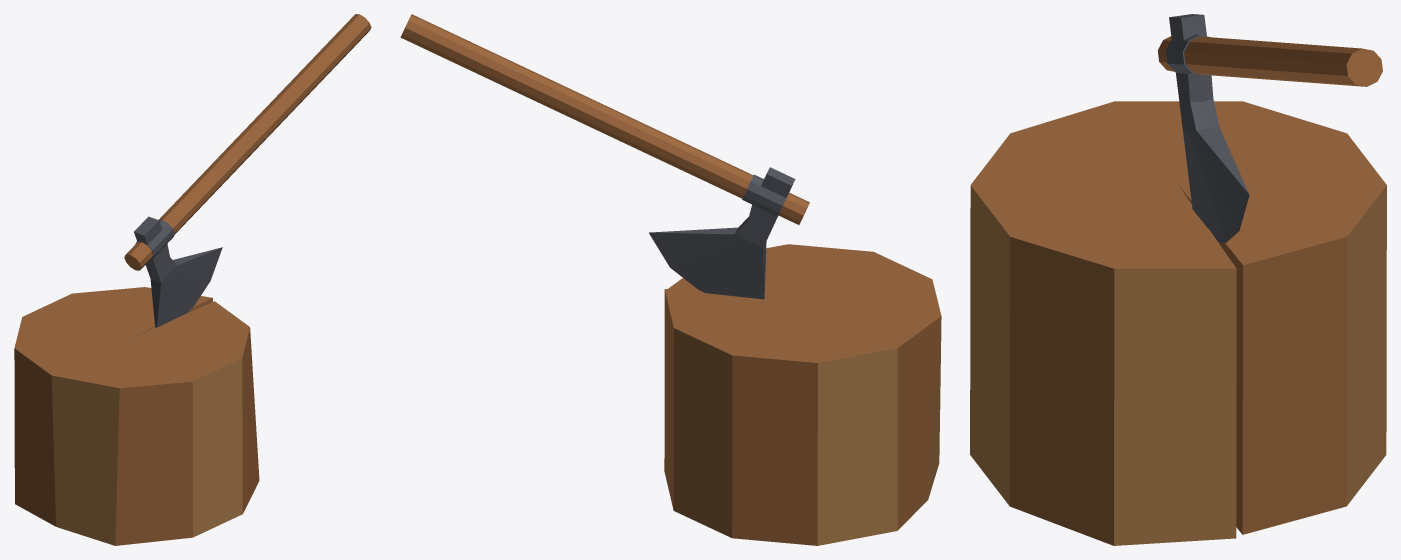
The model's file is Wood_02.fbx.
The picture shows the model from 3 angles, left to right: view 1: azimuth 30°, elevation 25°; view 2: azimuth 150°, elevation 25°; view 3: azimuth 270°, elevation 25°; orthographic projection. The views are drawn at different scales.
Visible parts, largest first — view 1: Wood_02; view 2: Wood_02; view 3: Wood_02.
Part boxes in pixels (x1,y1,x2,y2): Wood_02: [14, 14, 371, 545]; Wood_02: [400, 14, 941, 545]; Wood_02: [970, 14, 1386, 545].
Size of the model in its own units: 86.2 by 78.92 by 46.4.
